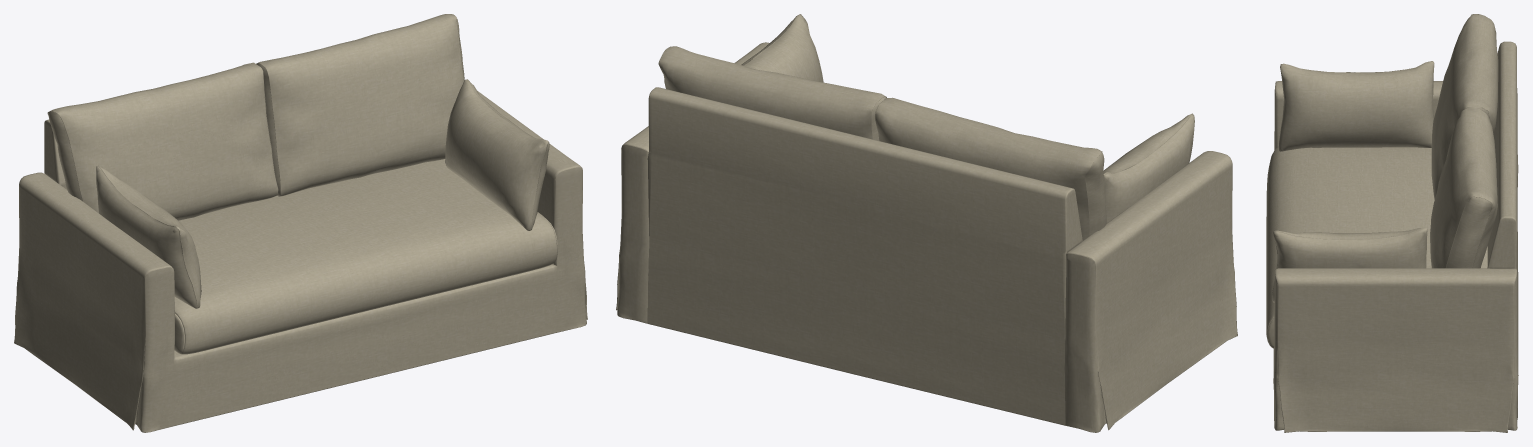
The model's file is hyltarp_sofa_2_osobowa_59514903.glb.
3 views of the same model, side by side, from view 1: azimuth 30°, elevation 25°; view 2: azimuth 150°, elevation 25°; view 3: azimuth 270°, elevation 25° (orthographic). The views are drawn at different scales.
Visible parts, largest first — view 1: hyltarp_sofa_2_osobowa_59514903; view 2: hyltarp_sofa_2_osobowa_59514903; view 3: hyltarp_sofa_2_osobowa_59514903.
Boxes of the visible parts, x1,y1,x2,y2 form: hyltarp_sofa_2_osobowa_59514903: [14, 14, 587, 432]; hyltarp_sofa_2_osobowa_59514903: [616, 14, 1237, 432]; hyltarp_sofa_2_osobowa_59514903: [1266, 14, 1518, 432].
Size of the model in its own units: 1.77 by 0.8929 by 0.9091.
1 material, 1 textured.
